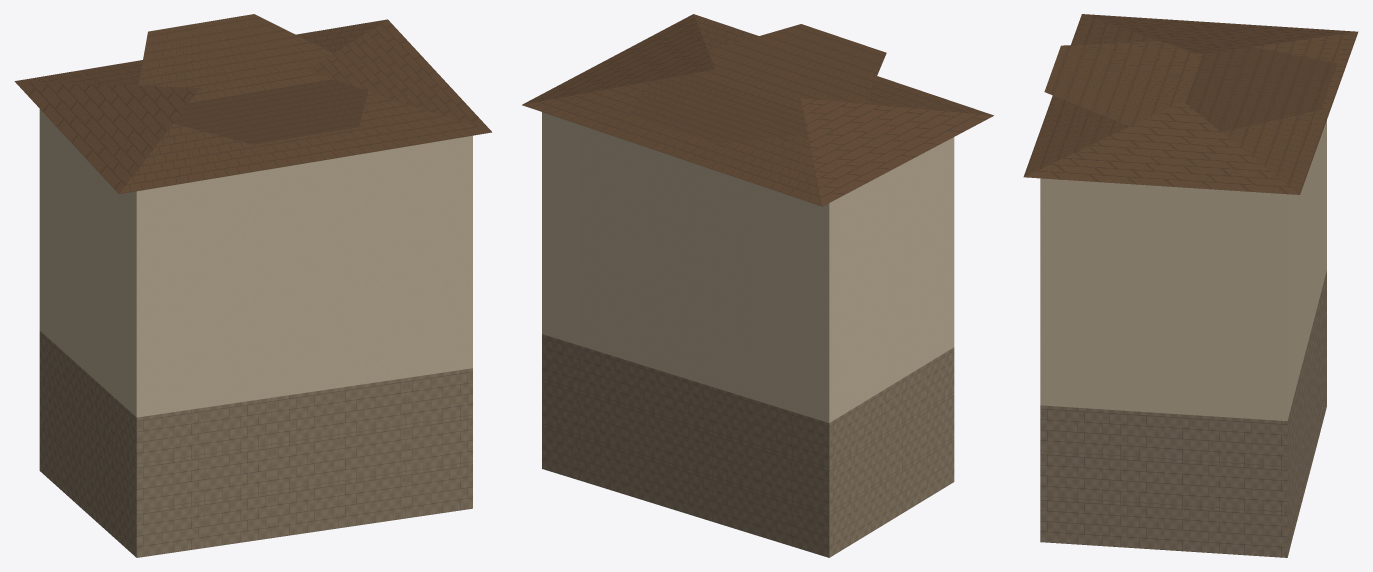
The model's file is bld_c10_16_453.gltf.
The picture shows the model from 3 angles, left to right: view 1: azimuth 30°, elevation 25°; view 2: azimuth 150°, elevation 25°; view 3: azimuth 270°, elevation 25°; orthographic projection. The views are drawn at different scales.
Visible parts, largest first — view 1: bld_c10_16_453; view 2: bld_c10_16_453; view 3: bld_c10_16_453.
Part boxes in pixels (left/top/right/bottom): bld_c10_16_453: left=14, top=14, right=491, bottom=557; bld_c10_16_453: left=522, top=14, right=993, bottom=557; bld_c10_16_453: left=1023, top=14, right=1358, bottom=557.
Bounding box in the file's own units: 14.47 × 14.8 × 11.32.
3 materials, 3 textured.
